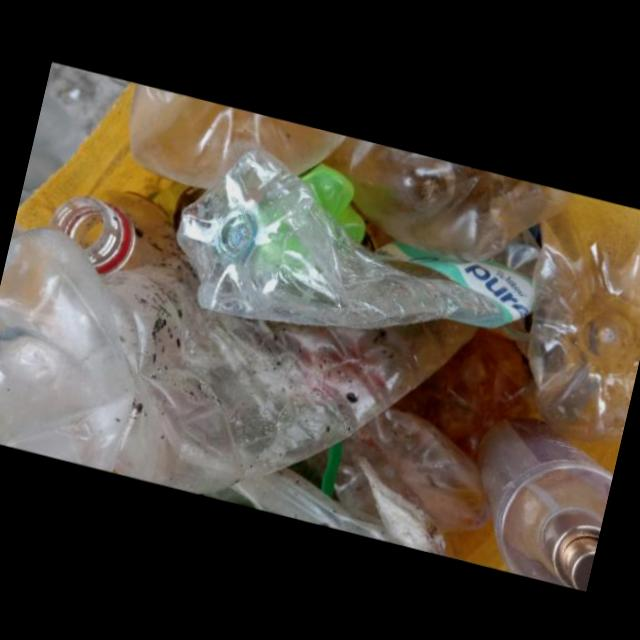chai_nhua: (474, 416, 613, 590), (48, 190, 190, 278)
chai_nhua_pet: (0, 223, 470, 497), (175, 151, 540, 331), (321, 137, 571, 262), (528, 197, 640, 443), (128, 86, 346, 193)
